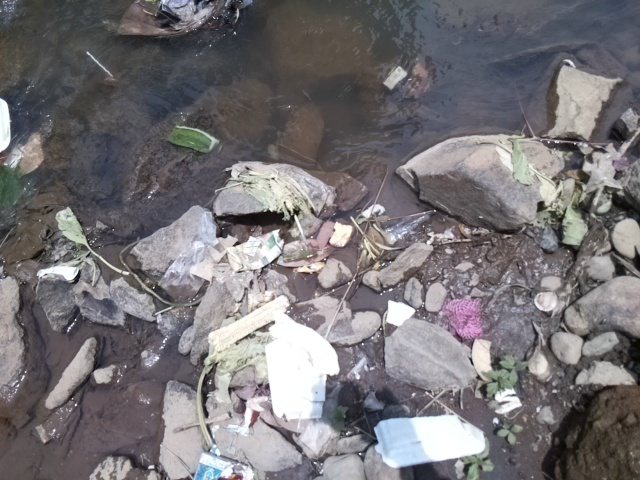Sampah_Styrofoam: (263, 316, 344, 423), (372, 411, 492, 471)
